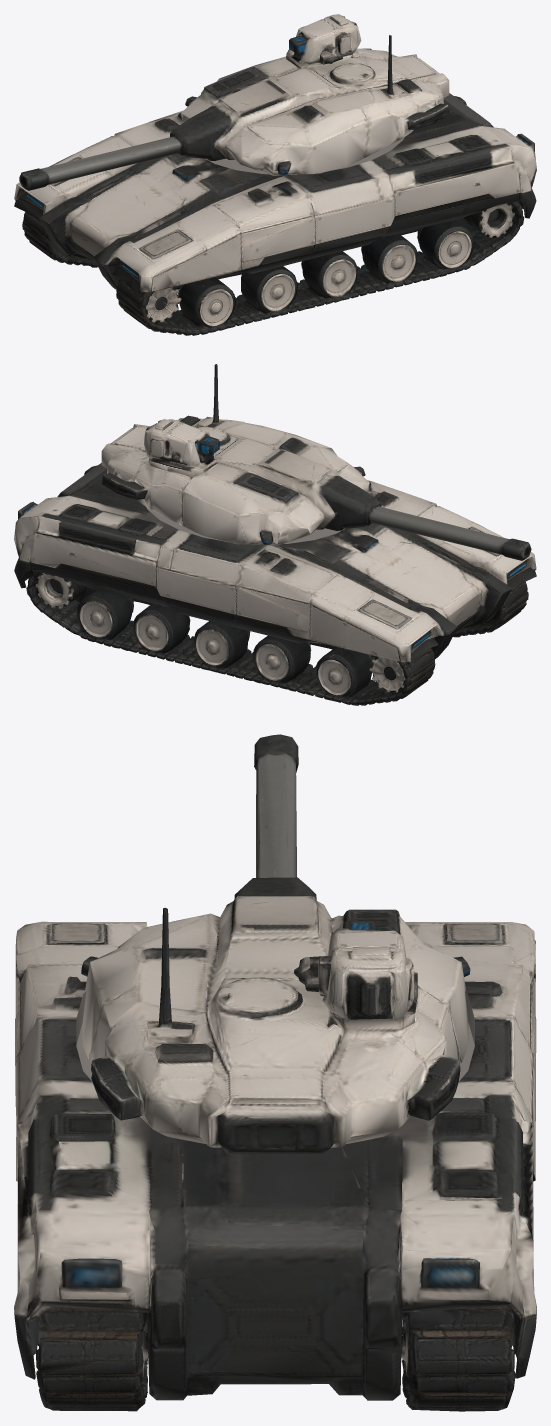
Rendered from guardian-tank.glb.
The picture shows the model from 3 angles, top to bottom: view 1: azimuth 30°, elevation 25°; view 2: azimuth 150°, elevation 25°; view 3: azimuth 270°, elevation 25°; orthographic projection. The views are drawn at different scales.
Parts seen in each view (by area): view 1: Hull, Turret; view 2: Hull, Turret; view 3: Hull, Turret.
Boxes of the visible parts, x1=… form: Hull: x1=14, y1=93, x2=536, y2=335; Turret: x1=19, y1=14, x2=449, y2=190; Hull: x1=14, y1=463, x2=536, y2=705; Turret: x1=101, y1=364, x2=531, y2=560; Hull: x1=14, y1=921, x2=536, y2=1411; Turret: x1=76, y1=734, x2=474, y2=1153.
Size of the model in its own units: 2 by 0.9241 by 0.9733.
Materials: 1 (1 with a texture image).
